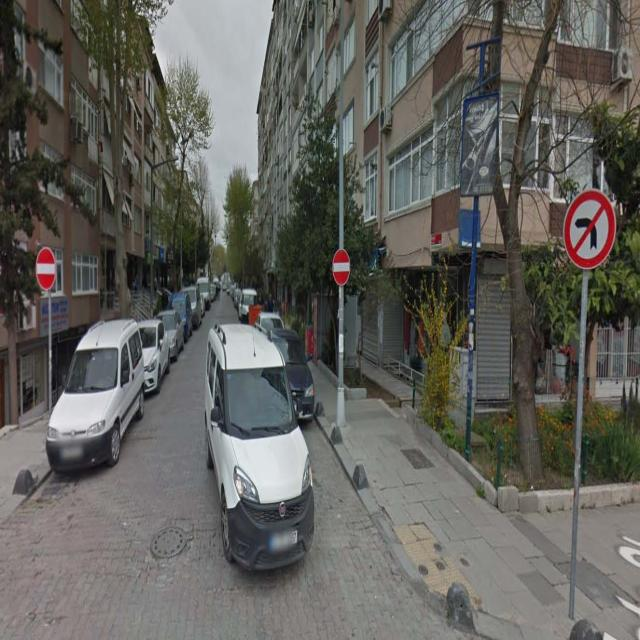girisyok: (34, 247, 56, 292), (332, 248, 351, 289)
soladonulmez: (563, 189, 616, 271)
